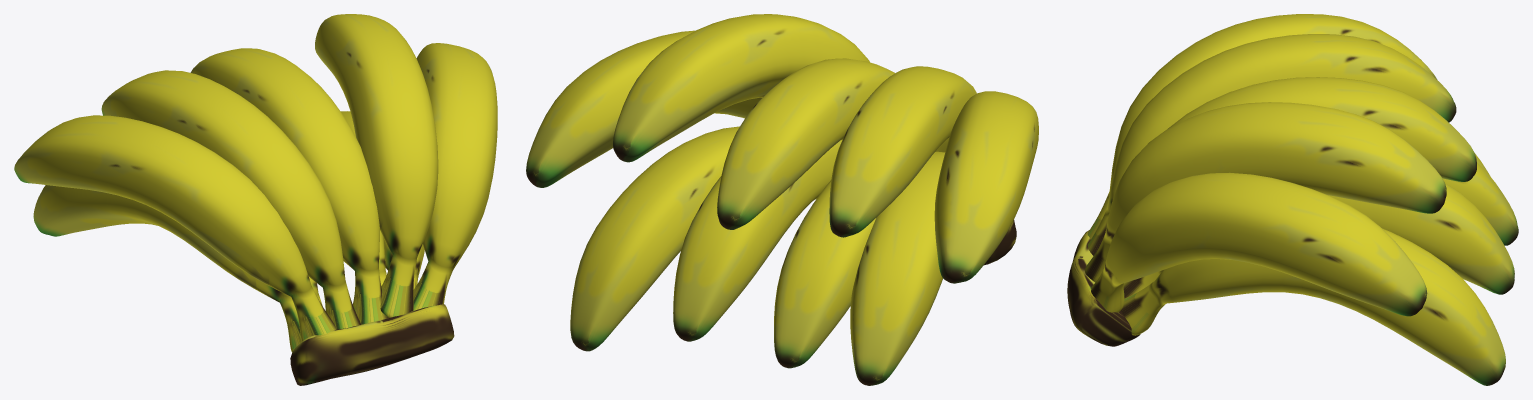
File: banana.fbx
3 renders of one model, left to right at view 1: azimuth 30°, elevation 25°; view 2: azimuth 150°, elevation 25°; view 3: azimuth 270°, elevation 25°, orthographic. The views are drawn at different scales.
Parts seen in each view (by area): view 1: Cylinder; view 2: Cylinder; view 3: Cylinder.
Part boxes in pixels (x1,y1,x2,y2): Cylinder: [14, 14, 497, 385]; Cylinder: [526, 14, 1038, 385]; Cylinder: [1067, 14, 1518, 385].
Size of the model in its own units: 1072 by 596 by 927.
Materials: 1 (1 with a texture image).
